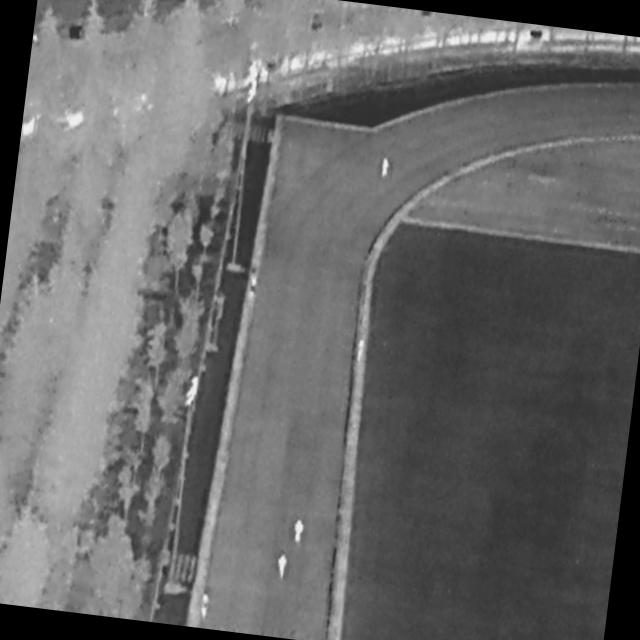person: (199, 590, 212, 622), (277, 551, 290, 580), (293, 516, 305, 546), (380, 155, 392, 182), (355, 337, 367, 364), (249, 274, 259, 302)
